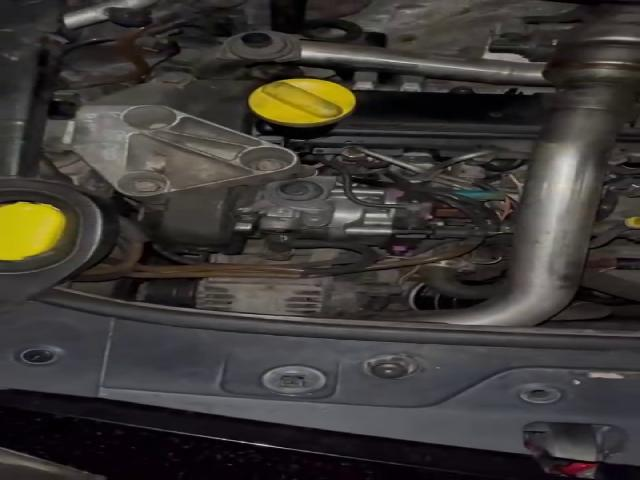alternator: (197, 277, 330, 315)
high_pressure_pump: (258, 188, 479, 255), (353, 188, 402, 203)
